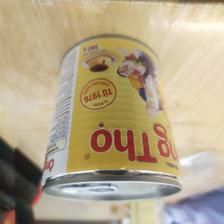Ong_tho: (41, 36, 183, 198)
